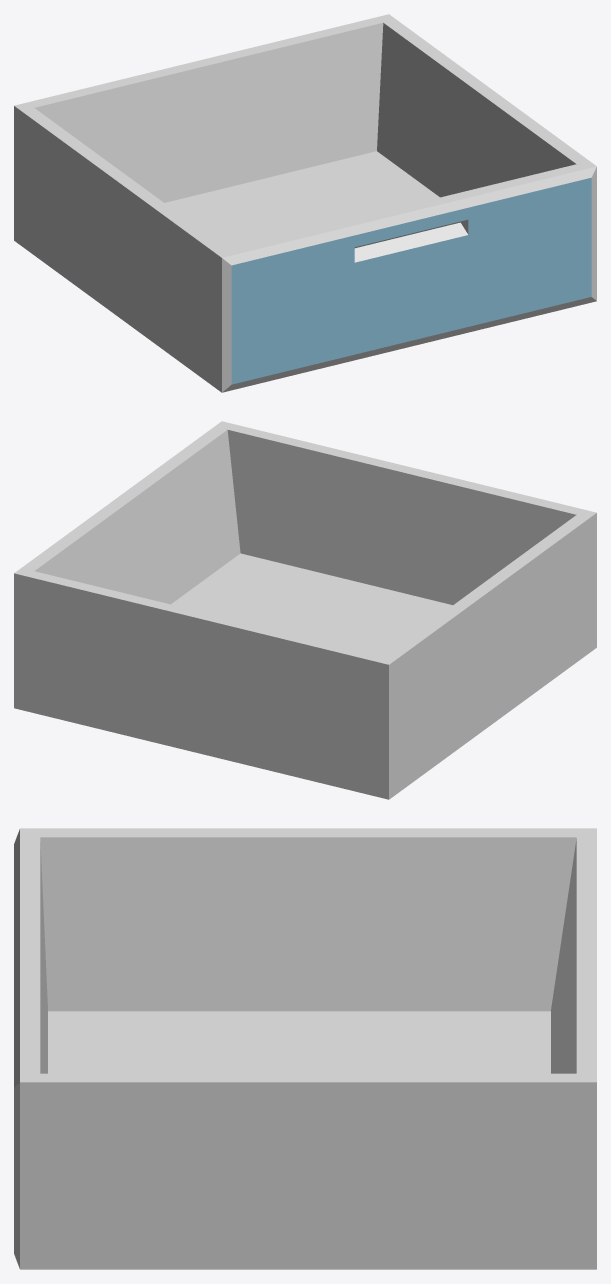
File: KAC-F600_Fridge_V1_Drawer.glb
The picture shows the model from 3 angles, top to bottom: view 1: azimuth 30°, elevation 25°; view 2: azimuth 150°, elevation 25°; view 3: azimuth 270°, elevation 25°; orthographic projection. The views are drawn at different scales.
Visible parts, largest first — view 1: KAC-F600_Fridge_V1_Drawer; view 2: KAC-F600_Fridge_V1_Drawer; view 3: KAC-F600_Fridge_V1_Drawer.
Part boxes in pixels (x1=…): KAC-F600_Fridge_V1_Drawer: x1=14, y1=14, x2=596, y2=392; KAC-F600_Fridge_V1_Drawer: x1=14, y1=421, x2=596, y2=799; KAC-F600_Fridge_V1_Drawer: x1=14, y1=828, x2=596, y2=1269.
Bounding box in the file's own units: 0.5 × 0.1719 × 0.485.
1 material, 1 textured.
